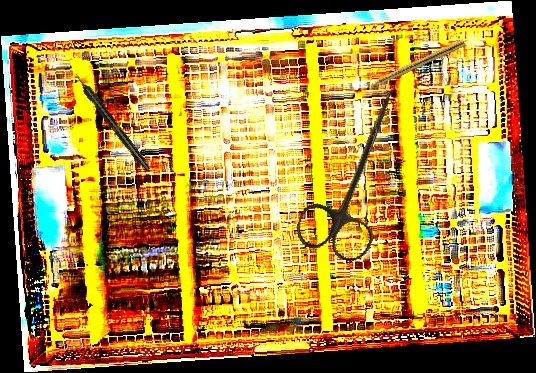Handpiece: (71, 71, 153, 173), (363, 37, 466, 92)
Iris Scissors: (291, 77, 423, 267)
